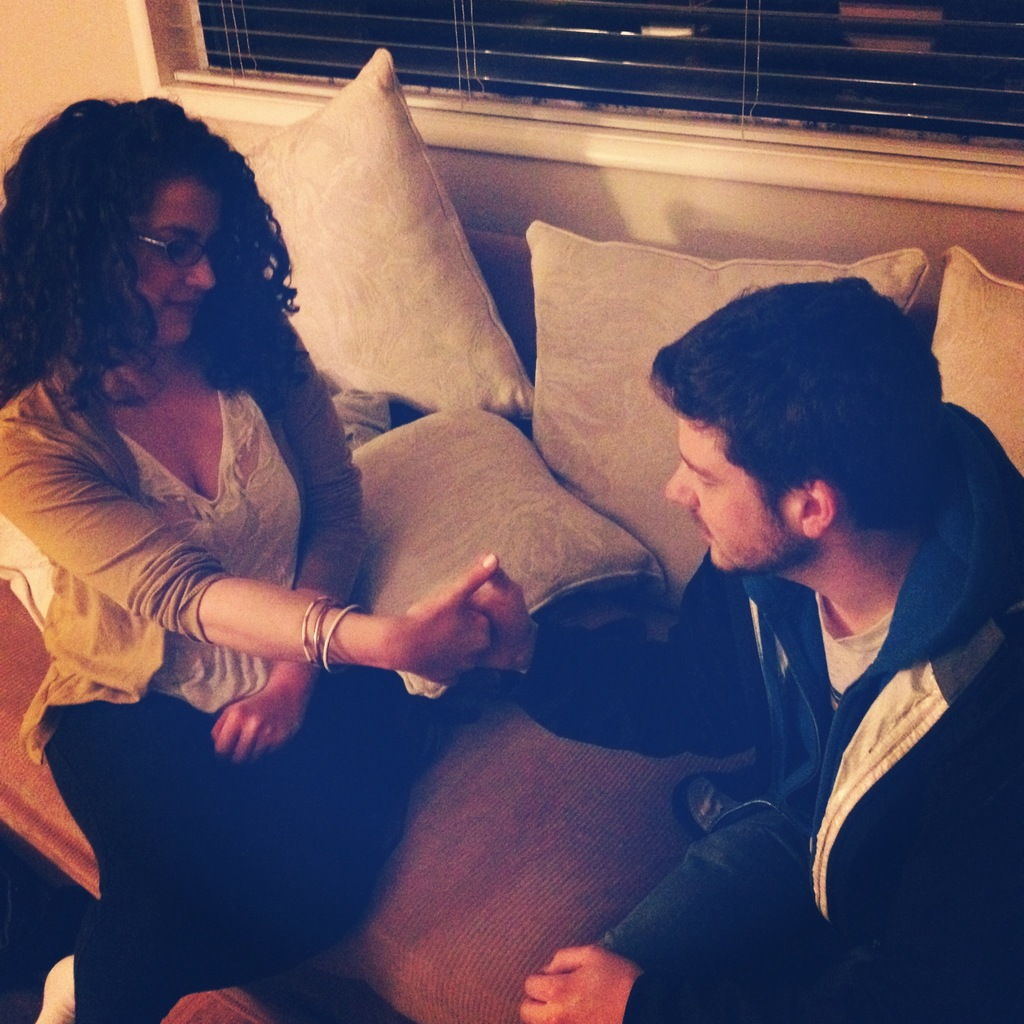Human_hand: (349, 568, 538, 697), (517, 944, 645, 1023), (465, 552, 543, 673), (207, 696, 300, 769)
